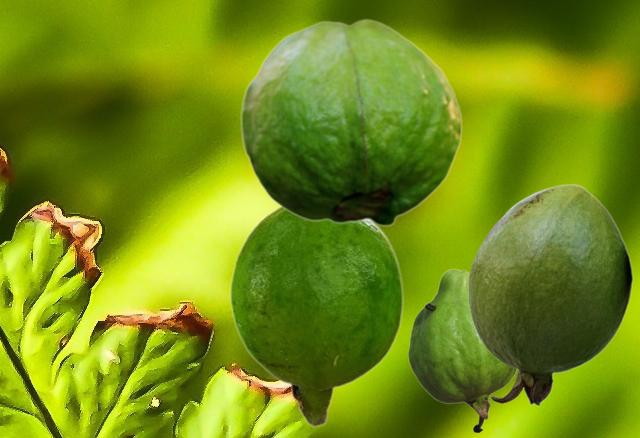guava: (240, 18, 461, 226), (229, 206, 403, 427), (468, 184, 632, 405), (407, 268, 517, 432)
